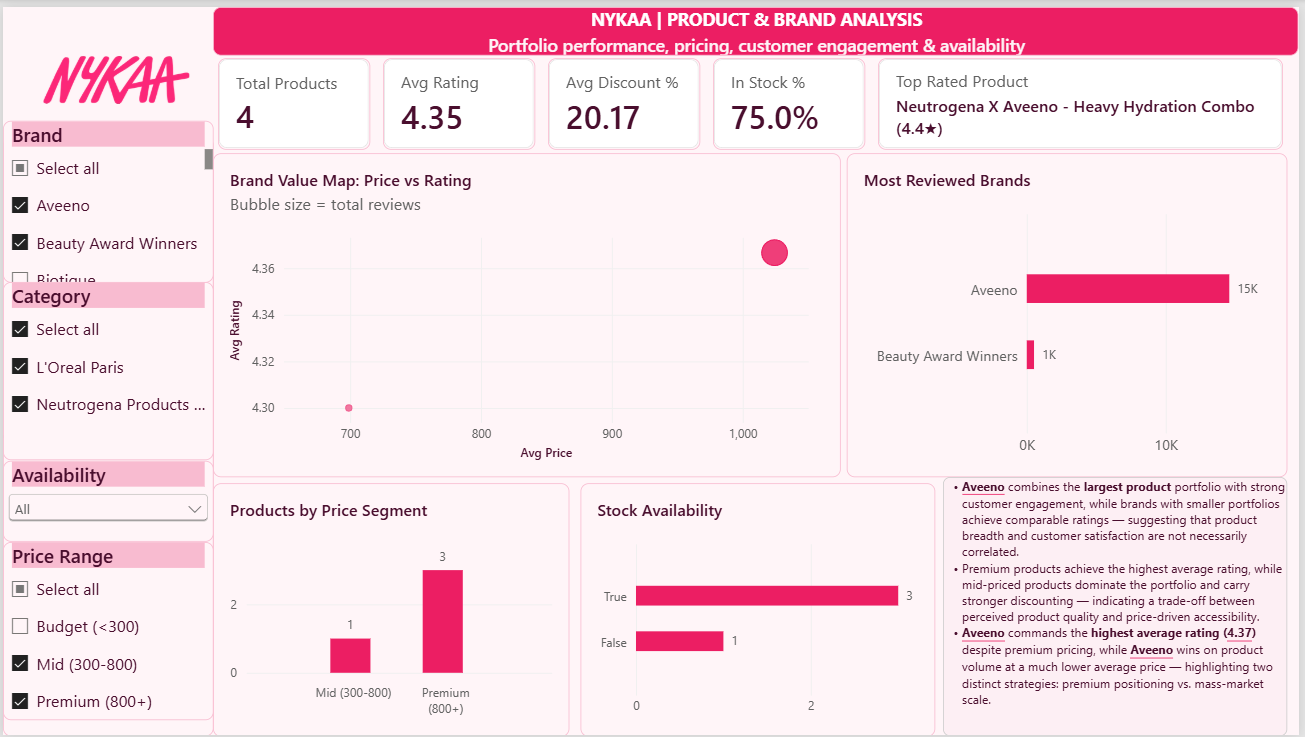

What the dashboard file says about the page in this screenshot:
{"tool":"powerbi","page":{"name":"Page 1","canvas":[1280,720],"ordinal":0},"visuals":[{"type":"shape","box":[0,128,208,592],"z":0},{"type":"slicer","fields":{"Values":["nykaa_cleaned.brand_name"]},"box":[0,112,208,160],"z":1000},{"type":"slicer","fields":{"Values":["nykaa_cleaned.listing_page_name"]},"box":[0,272,208,176],"z":2000},{"type":"slicer","fields":{"Values":["nykaa_cleaned.in_stock"]},"box":[0,448,208,80],"z":3000},{"type":"slicer","fields":{"Values":["nykaa_cleaned.price_band"]},"box":[0,528,208,176],"z":4000},{"type":"cardVisual","fields":{"Data":["nykaa_cleaned.Total Products"]},"box":[212,50,150,90],"z":5000},{"type":"cardVisual","fields":{"Data":["nykaa_cleaned.Avg Rating"]},"box":[375,50,150,90],"z":6000},{"type":"cardVisual","fields":{"Data":["nykaa_cleaned.Avg Discount %"]},"box":[538,50,150,90],"z":7000},{"type":"cardVisual","fields":{"Data":["nykaa_cleaned.In Stock %"]},"box":[701,50,150,90],"z":8000},{"type":"cardVisual","fields":{"Data":["nykaa_cleaned.Top Rated Product"]},"box":[864,50,400,90],"z":9000},{"type":"scatterChart","title":"Brand Value Map: Price vs Rating","fields":{"Series":["nykaa_cleaned.brand_name"],"Size":["nykaa_cleaned.Total Reviews"],"X":["nykaa_cleaned.Avg Price"],"Y":["nykaa_cleaned.Avg Rating"]},"box":[208,144,620,320],"z":10000},{"type":"clusteredBarChart","title":"Most Reviewed Brands","fields":{"Category":["nykaa_cleaned.brand_name"],"Y":["nykaa_cleaned.Total Reviews"]},"box":[833,144,435,320],"z":11000},{"type":"clusteredColumnChart","title":"Products by Price Segment","fields":{"Category":["nykaa_cleaned.price_band"],"Y":["CountNonNull(nykaa_cleaned.product_id)"]},"box":[208,470,352,250],"z":12000},{"type":"clusteredBarChart","title":"Stock Availability","fields":{"Category":["nykaa_cleaned.in_stock"],"Y":["CountNonNull(nykaa_cleaned.product_id)"]},"box":[570,470,350,250],"z":13000},{"type":"textbox","box":[928,464,340,256],"z":14000},{"type":"textbox","title":"NYKAA | PRODUCT & BRAND ANALYSIS","box":[208,0,1072,48],"z":15000},{"type":"image","box":[0,0,224,144],"z":16000}]}

Visuals, with their boxes in screenshot pixels (x1, y1, x2, y2), scaled from the page's 1280x720 canvas onto the 1305x737 screenshot:
shape: [0, 131, 212, 736]
slicer - nykaa_cleaned.brand_name: [0, 115, 212, 278]
slicer - nykaa_cleaned.listing_page_name: [0, 278, 212, 459]
slicer - nykaa_cleaned.in_stock: [0, 459, 212, 540]
slicer - nykaa_cleaned.price_band: [0, 540, 212, 721]
cardVisual - nykaa_cleaned.Total Products: [216, 51, 369, 143]
cardVisual - nykaa_cleaned.Avg Rating: [382, 51, 535, 143]
cardVisual - nykaa_cleaned.Avg Discount %: [549, 51, 701, 143]
cardVisual - nykaa_cleaned.In Stock %: [715, 51, 868, 143]
cardVisual - nykaa_cleaned.Top Rated Product: [881, 51, 1289, 143]
"Brand Value Map: Price vs Rating" scatterChart: [212, 147, 844, 475]
"Most Reviewed Brands" clusteredBarChart: [849, 147, 1293, 475]
"Products by Price Segment" clusteredColumnChart: [212, 481, 571, 736]
"Stock Availability" clusteredBarChart: [581, 481, 938, 736]
textbox: [946, 475, 1293, 736]
"NYKAA | PRODUCT & BRAND ANALYSIS" textbox: [212, 0, 1304, 49]
image: [0, 0, 228, 147]
